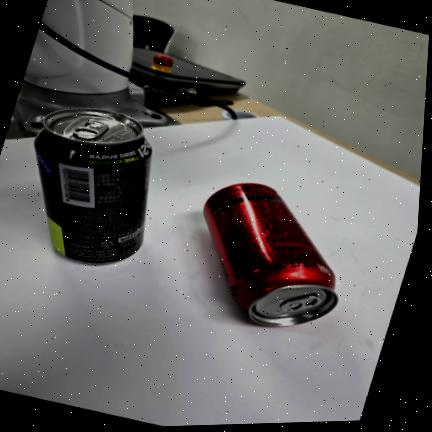can_coke_zero: (203, 183, 337, 326)
can_pepsi_zero: (34, 108, 152, 263)
